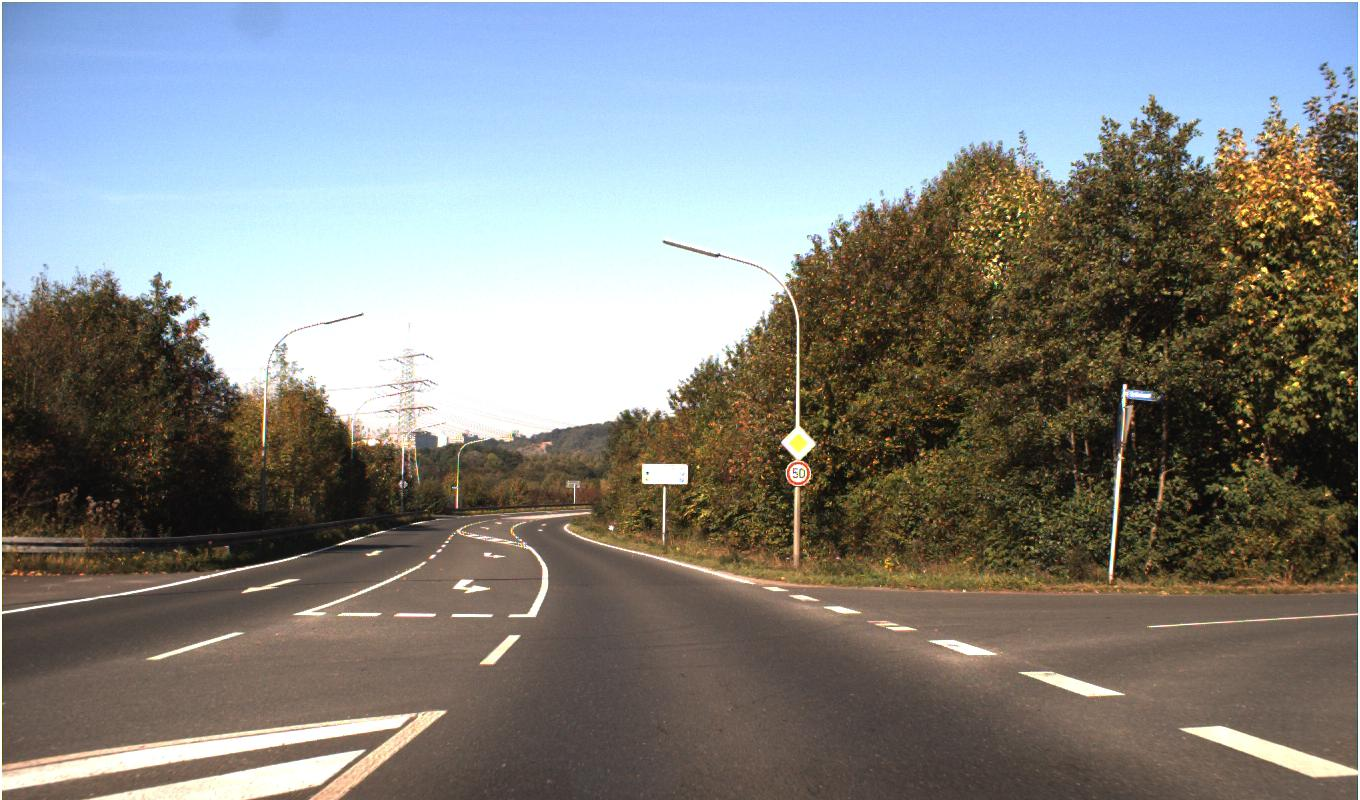prohibitory: (785, 460, 811, 486)
sign: (779, 424, 816, 461)
